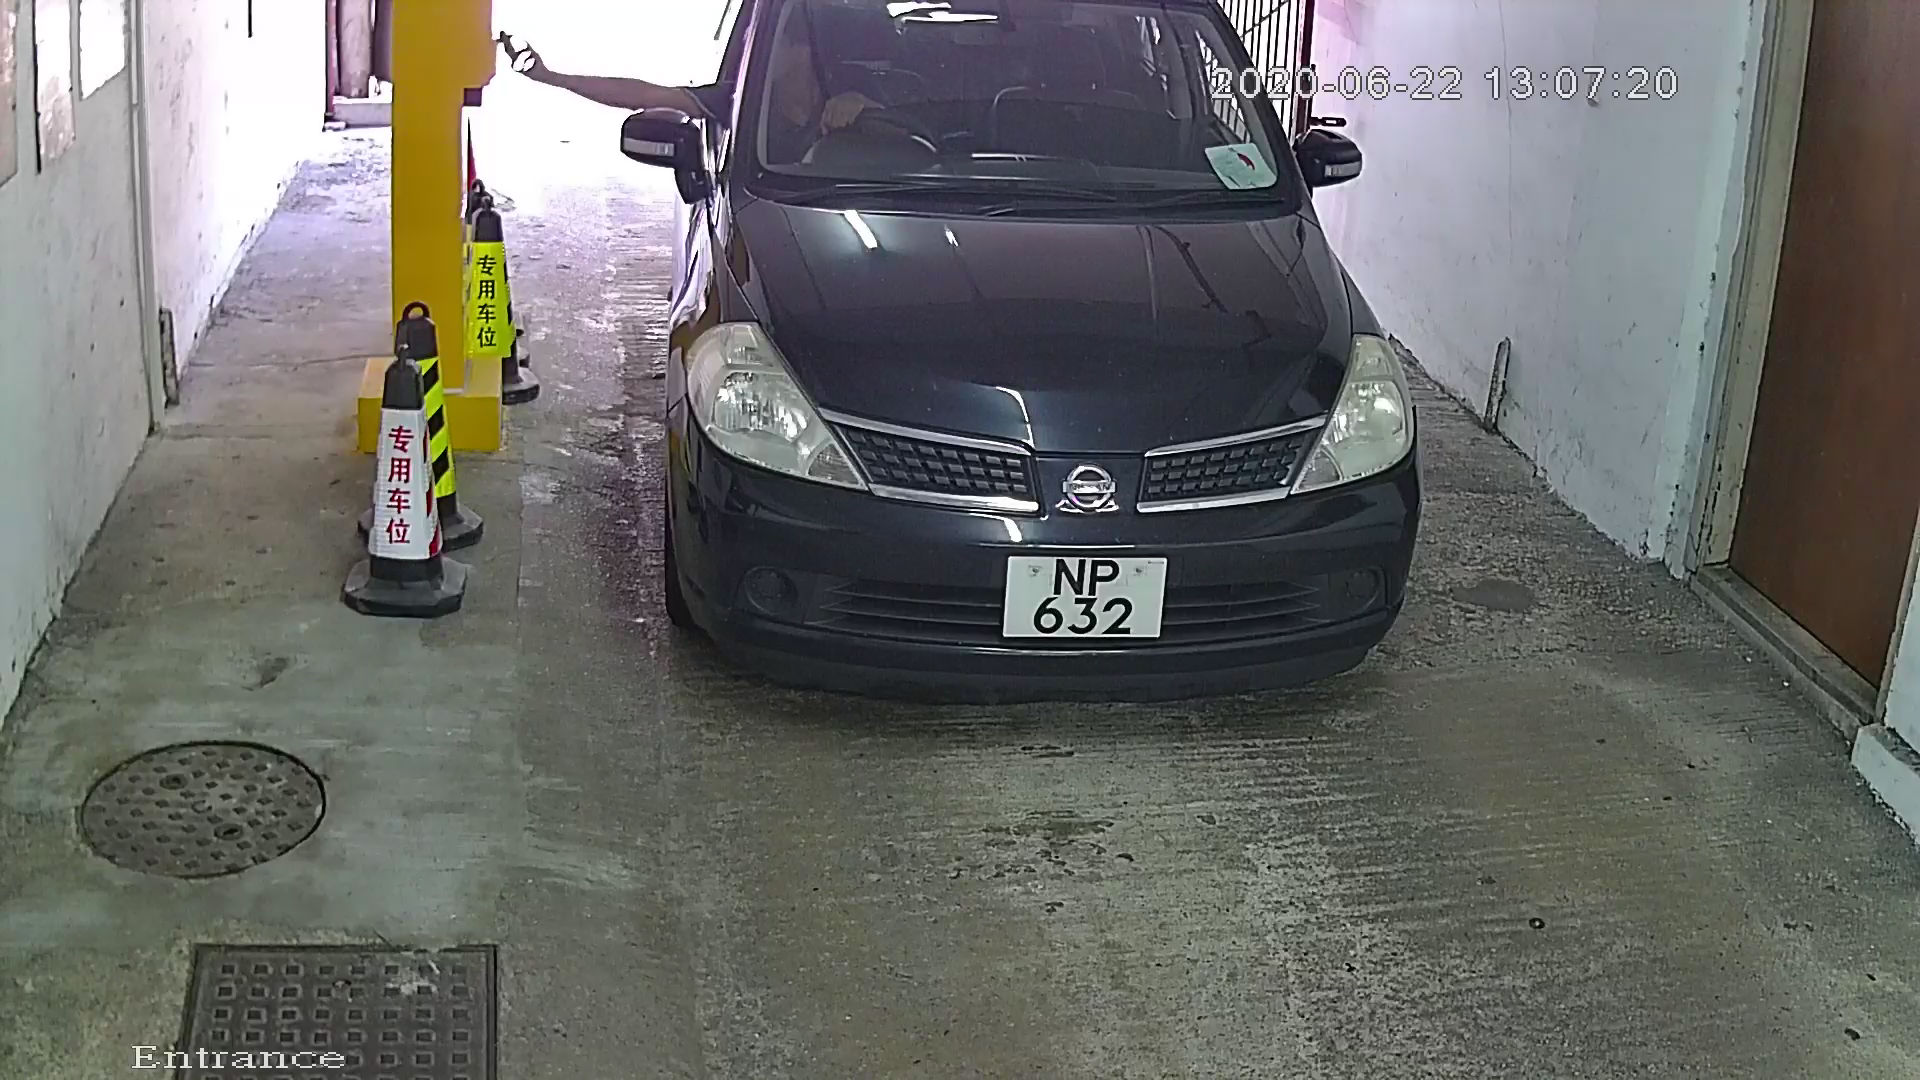privatecar: (622, 3, 1468, 731)
